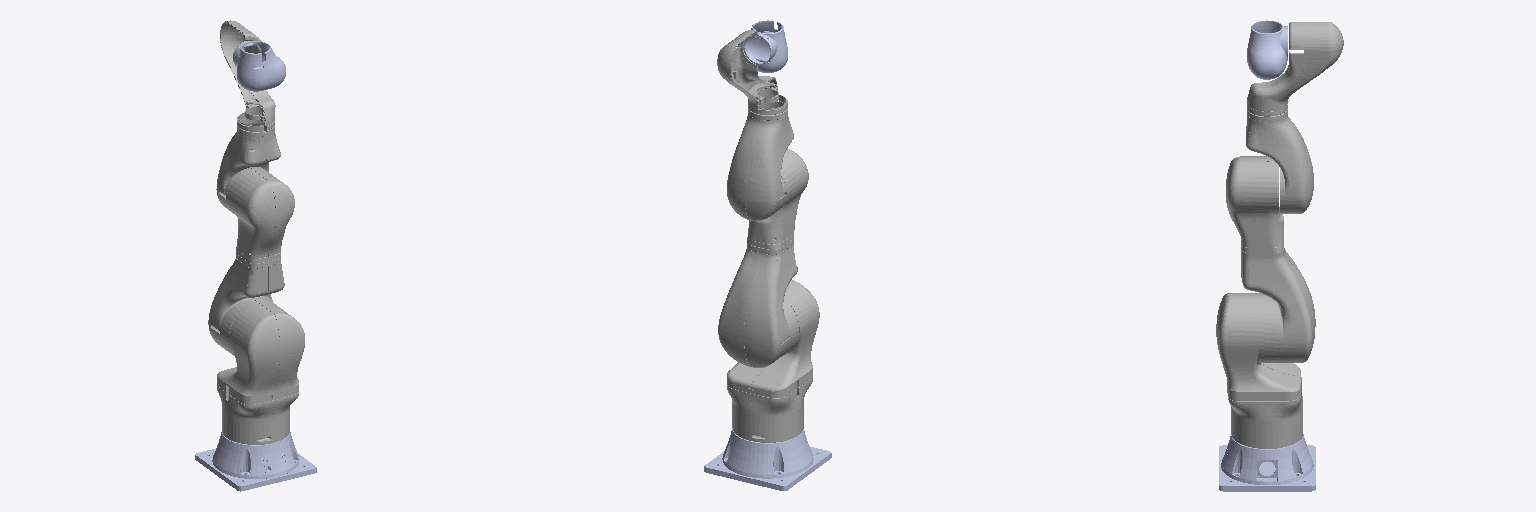
The robot description file, URDF, robot "scorpio_arm_description_v2":
<robot
  name="scorpio_arm_description_v2">
  <link
    name="base_link">
    <inertial>
      <origin
        xyz="-0.00231747398718491 0.000926090335802016 0.0320057013975666"
        rpy="0 0 0" />
      <mass
        value="2.11601477785116" />
      <inertia
        ixx="0.00202448875112996"
        ixy="4.37456323015974E-05"
        ixz="0.000128545243673656"
        iyy="0.00131223237035268"
        iyz="-0.000182115234066843"
        izz="0.000782866740229756" />
    </inertial>
    <visual>
      <origin
        xyz="0 0 0"
        rpy="0 0 0" />
      <geometry>
        <mesh
          filename="package://scorpio_arm_description_v2/meshes/base_link.STL" />
      </geometry>
      <material
        name="">
        <color
          rgba="0.792156862745098 0.819607843137255 0.933333333333333 1" />
      </material>
    </visual>
    <collision>
      <origin
        xyz="0 0 0"
        rpy="0 0 0" />
      <geometry>
        <mesh
          filename="package://scorpio_arm_description_v2/meshes/base_link.STL" />
      </geometry>
    </collision>
  </link>
  <link
    name="link1">
    <inertial>
      <origin
        xyz="0.000477211763040611 -0.00737171225105654 0.0673262959495374"
        rpy="0 0 0" />
      <mass
        value="0.462790481374203" />
      <inertia
        ixx="0.000939965910200995"
        ixy="1.64506977488475E-06"
        ixz="2.63906539352487E-05"
        iyy="0.00212746857726697"
        iyz="0.000232679816143088"
        izz="0.00200259662994076" />
    </inertial>
    <visual>
      <origin
        xyz="0 0 0"
        rpy="0 0 0" />
      <geometry>
        <mesh
          filename="package://scorpio_arm_description_v2/meshes/link1.STL" />
      </geometry>
      <material
        name="">
        <color
          rgba="0.752941176470588 0.752941176470588 0.752941176470588 1" />
      </material>
    </visual>
    <collision>
      <origin
        xyz="0 0 0"
        rpy="0 0 0" />
      <geometry>
        <mesh
          filename="package://scorpio_arm_description_v2/meshes/link1.STL" />
      </geometry>
    </collision>
  </link>
  <joint
    name="joint1"
    type="revolute">
    <origin
      xyz="0 0 0.1115"
      rpy="1.65436122510606E-24 -2.16239755607771E-34 1.77925042286121E-10" />
    <parent
      link="base_link" />
    <child
      link="link1" />
    <axis
      xyz="0 0 1" />
  </joint>
  <link
    name="link2">
    <inertial>
      <origin
        xyz="0.000424568456060098 0.353718613538131 -0.0239145484479153"
        rpy="0 0 0" />
      <mass
        value="0.449203640099021" />
      <inertia
        ixx="0.0015378612168218"
        ixy="-8.28836534643497E-05"
        ixz="-8.85331181664643E-06"
        iyy="0.000798472791972848"
        iyz="0.000260149183654035"
        izz="0.00223846447973205" />
    </inertial>
    <visual>
      <origin
        xyz="0 0 0"
        rpy="0 0 0" />
      <geometry>
        <mesh
          filename="package://scorpio_arm_description_v2/meshes/link2.STL" />
      </geometry>
      <material
        name="">
        <color
          rgba="0.752941176470588 0.752941176470588 0.752941176470588 1" />
      </material>
    </visual>
    <collision>
      <origin
        xyz="0 0 0"
        rpy="0 0 0" />
      <geometry>
        <mesh
          filename="package://scorpio_arm_description_v2/meshes/link2.STL" />
      </geometry>
    </collision>
  </link>
  <joint
    name="joint2"
    type="revolute">
    <origin
      xyz="0 -0.00775000309120119 0.314499999923826"
      rpy="1.57079631696602 1.748803E-18 3.14159265358979" />
    <parent
      link="link1" />
    <child
      link="link2" />
    <axis
      xyz="0 0 -1" />
  </joint>
  <link
    name="link3">
    <inertial>
      <origin
        xyz="0.00015227090313541 0.0924043712970327 0.00966148754882001"
        rpy="0 0 0" />
      <mass
        value="0.417553118840387" />
      <inertia
        ixx="0.000778760838885271"
        ixy="-3.13198465335902E-05"
        ixz="9.73666822020859E-06"
        iyy="0.00074740822193102"
        iyz="0.000238313418273415"
        izz="0.00134923661677296" />
    </inertial>
    <visual>
      <origin
        xyz="0 0 0"
        rpy="0 0 0" />
      <geometry>
        <mesh
          filename="package://scorpio_arm_description_v2/meshes/link3.STL" />
      </geometry>
      <material
        name="">
        <color
          rgba="0.752941176470588 0.752941176470588 0.752941176470588 1" />
      </material>
    </visual>
    <collision>
      <origin
        xyz="0 0 0"
        rpy="0 0 0" />
      <geometry>
        <mesh
          filename="package://scorpio_arm_description_v2/meshes/link3.STL" />
      </geometry>
    </collision>
  </link>
  <joint
    name="joint3"
    type="revolute">
    <origin
      xyz="0 0.425000094137017 0.0409999999973247"
      rpy="0 0 0" />
    <parent
      link="link2" />
    <child
      link="link3" />
    <axis
      xyz="0 0 -1" />
  </joint>
  <link
    name="link4">
    <inertial>
      <origin
        xyz="0.029607886080566 0.0701646372502981 0.115925469546175"
        rpy="0 0 0" />
      <mass
        value="0.213762001941474" />
      <inertia
        ixx="0.000604647040015572"
        ixy="-8.70664601137527E-05"
        ixz="-0.000122124889347993"
        iyy="0.00047082788249587"
        iyz="-0.000282672676122053"
        izz="0.000268812803761431" />
    </inertial>
    <visual>
      <origin
        xyz="0 0 0"
        rpy="0 0 0" />
      <geometry>
        <mesh
          filename="package://scorpio_arm_description_v2/meshes/link4.STL" />
      </geometry>
      <material
        name="">
        <color
          rgba="0.752941176470588 0.752941176470588 0.752941176470588 1" />
      </material>
    </visual>
    <collision>
      <origin
        xyz="0 0 0"
        rpy="0 0 0" />
      <geometry>
        <mesh
          filename="package://scorpio_arm_description_v2/meshes/link4.STL" />
      </geometry>
    </collision>
  </link>
  <joint
    name="joint4"
    type="revolute">
    <origin
      xyz="-1.49404937263287E-05 0.227498306290618 -0.0332478801440056"
      rpy="1.5707963267949 0 3.14159265358979" />
    <parent
      link="link3" />
    <child
      link="link4" />
    <axis
      xyz="0 0 1" />
  </joint>
  <link
    name="link5">
    <inertial>
      <origin
        xyz="-0.0164540607163492 -0.0132001765719647 0.0535429526197122"
        rpy="0 0 0" />
      <mass
        value="0.081165330686096" />
      <inertia
        ixx="3.82422818938212E-05"
        ixy="-3.51814648257472E-05"
        ixz="2.221162370842E-07"
        iyy="7.49049082009084E-05"
        iyz="3.14990513890325E-06"
        izz="9.12577041800575E-05" />
    </inertial>
    <visual>
      <origin
        xyz="0 0 0"
        rpy="0 0 0" />
      <geometry>
        <mesh
          filename="package://scorpio_arm_description_v2/meshes/link5.STL" />
      </geometry>
      <material
        name="">
        <color
          rgba="0.792156862745098 0.819607843137255 0.933333333333333 1" />
      </material>
    </visual>
    <collision>
      <origin
        xyz="0 0 0"
        rpy="0 0 0" />
      <geometry>
        <mesh
          filename="package://scorpio_arm_description_v2/meshes/link5.STL" />
      </geometry>
    </collision>
  </link>
  <joint
    name="joint5"
    type="revolute">
    <origin
      xyz="1.61883599965473E-05 0.0570007543469801 0.197500000000056"
      rpy="1.5707963267949 0 0" />
    <parent
      link="link4" />
    <child
      link="link5" />
    <axis
      xyz="0 0 1" />
  </joint>
  <link
    name="link6">
    <inertial>
      <origin
        xyz="0.0245655824144414 -0.00933790417108124 0.00780295785191365"
        rpy="0 0 0" />
      <mass
        value="0.15082312906552" />
      <inertia
        ixx="8.96339968255372E-05"
        ixy="-1.01492117426893E-06"
        ixz="-6.08633423740869E-05"
        iyy="0.000133450050969155"
        iyz="-1.49130492191954E-05"
        izz="8.40574169550522E-05" />
    </inertial>
    <visual>
      <origin
        xyz="0 0 0"
        rpy="0 0 0" />
      <geometry>
        <mesh
          filename="package://scorpio_arm_description_v2/meshes/link6.STL" />
      </geometry>
      <material
        name="">
        <color
          rgba="0.752941176470588 0.752941176470588 0.752941176470588 1" />
      </material>
    </visual>
    <collision>
      <origin
        xyz="0 0 0"
        rpy="0 0 0" />
      <geometry>
        <mesh
          filename="package://scorpio_arm_description_v2/meshes/link6.STL" />
      </geometry>
    </collision>
  </link>
  <joint
    name="joint6"
    type="revolute">
    <origin
      xyz="-3.11288537894708E-05 0.0754015995721991 0.0570028742029668"
      rpy="-1.5707963267949 -1.04851706378525E-28 -2.11069071793014E-14" />
    <parent
      link="link5" />
    <child
      link="link6" />
    <axis
      xyz="0 0 1" />
  </joint>
</robot>

--- What the picture shows (computed from the rendered views, not written in the file) ---
The picture shows the robot from 3 angles, left to right: view 1: azimuth 30°, elevation 25°; view 2: azimuth 150°, elevation 25°; view 3: azimuth 270°, elevation 25°; orthographic projection.
Robot: scorpio_arm_description_v2 — 7 links, 6 joints (6 revolute); root link base_link; default pose: every joint at zero.
Visible links, largest first — view 1: link1, link2, base_link, link3, link4, link5; view 2: link2, link1, link3, base_link, link4, link5; view 3: link2, link1, base_link, link4, link3, link5.
Boxes of the visible links, <box> form: link1: <box>217,301,304,444</box>; link2: <box>208,167,294,355</box>; base_link: <box>195,432,316,491</box>; link3: <box>216,118,280,211</box>; link4: <box>220,20,275,131</box>; link5: <box>233,41,285,91</box>; link2: <box>718,148,808,367</box>; link1: <box>727,280,819,442</box>; link3: <box>727,101,793,220</box>; base_link: <box>704,428,831,490</box>; link4: <box>717,30,787,114</box>; link5: <box>737,20,787,72</box>; link2: <box>1226,156,1315,362</box>; link1: <box>1216,293,1302,448</box>; base_link: <box>1219,434,1315,491</box>; link4: <box>1247,22,1343,116</box>; link3: <box>1246,109,1313,213</box>; link5: <box>1247,20,1287,79</box>.
Size in the robot's own frame: 0.26 by 0.3438 by 1.34 metres.
Meshes: 7 distinct files referenced, 6 mesh visuals loaded (6 binary STL); not drawn: 1 (reference not matched to a file when rendering).